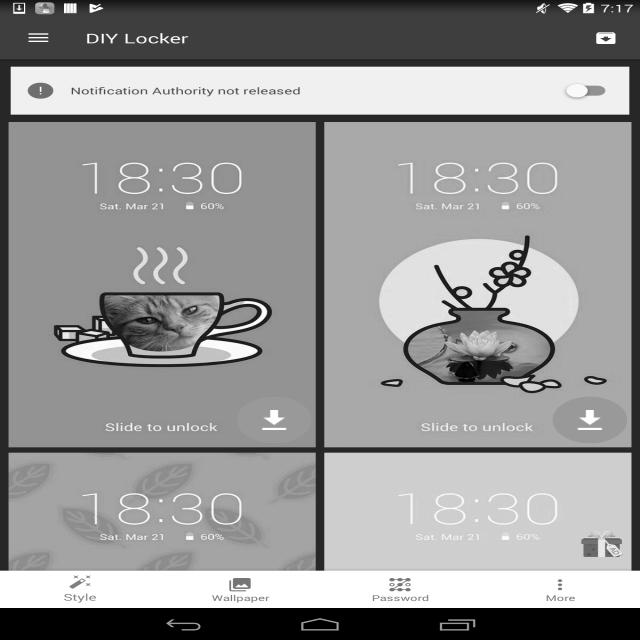ImageButton: (9, 17, 68, 59)
ImageView: (8, 122, 316, 453), (324, 122, 632, 453), (8, 452, 315, 640), (324, 452, 631, 640), (575, 527, 628, 561), (67, 574, 93, 590), (227, 576, 253, 592), (387, 576, 413, 592), (547, 576, 573, 592)
TextView: (237, 397, 311, 443), (553, 397, 627, 443), (70, 84, 301, 97), (85, 29, 189, 47), (580, 22, 632, 54), (13, 591, 147, 603), (173, 592, 307, 604), (333, 592, 467, 604), (493, 592, 627, 604)
